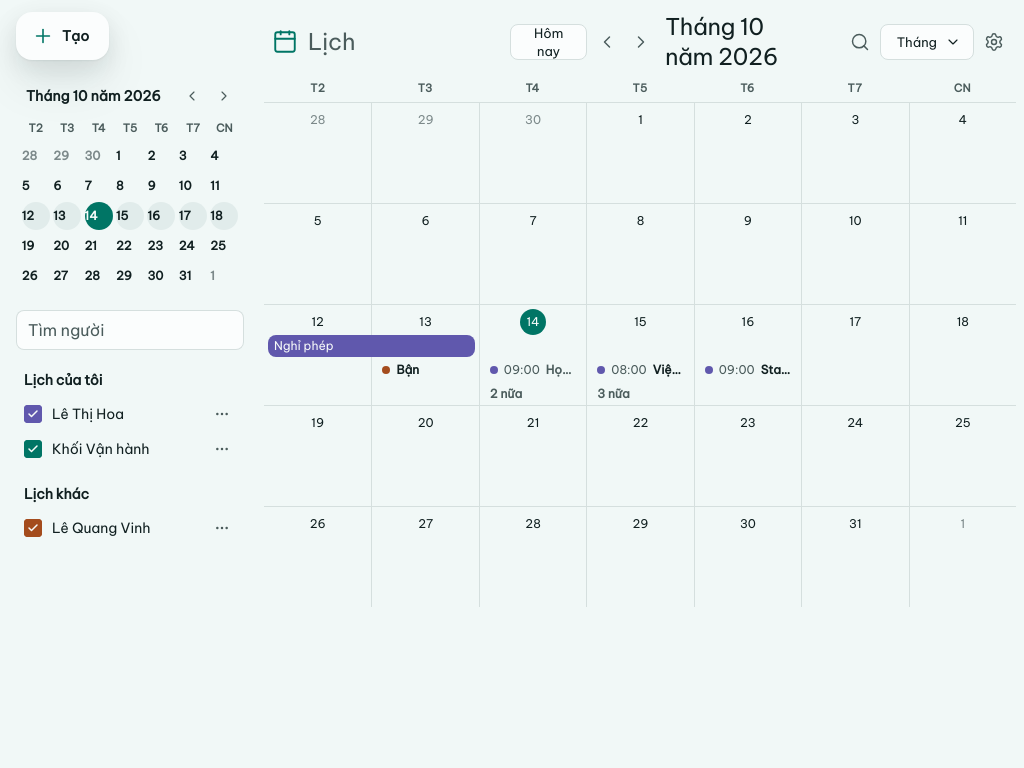
the month › lays the days out from Monday and folds what does not fit into a named button
The width and height of the screenshot is (1024, 768).
Expected: the button "08:00 Việc A" is shown, left=591, top=359, right=690, bottom=381
Click the button with aria-label "Thêm 3 sự kiện ngày 15 tháng 10": [640, 394] box left=591, top=383, right=690, bottom=405
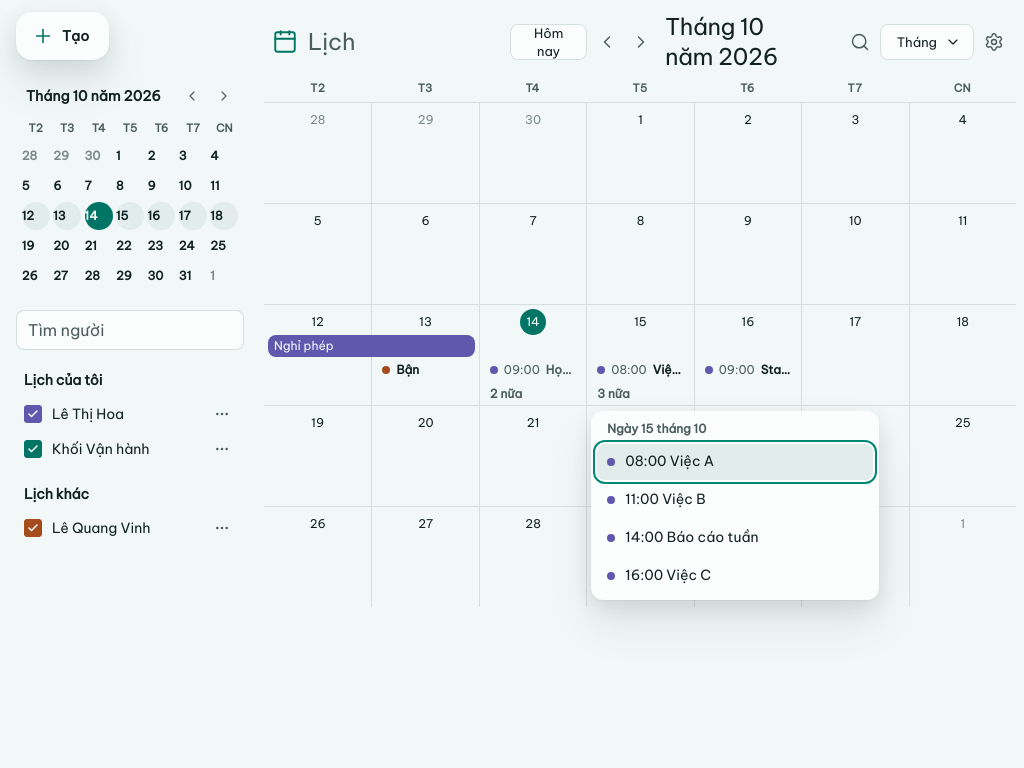
Expected: the number of menu items is 4, left=597, top=444, right=873, bottom=480; left=597, top=482, right=873, bottom=518; left=597, top=520, right=873, bottom=556; left=597, top=558, right=873, bottom=594
